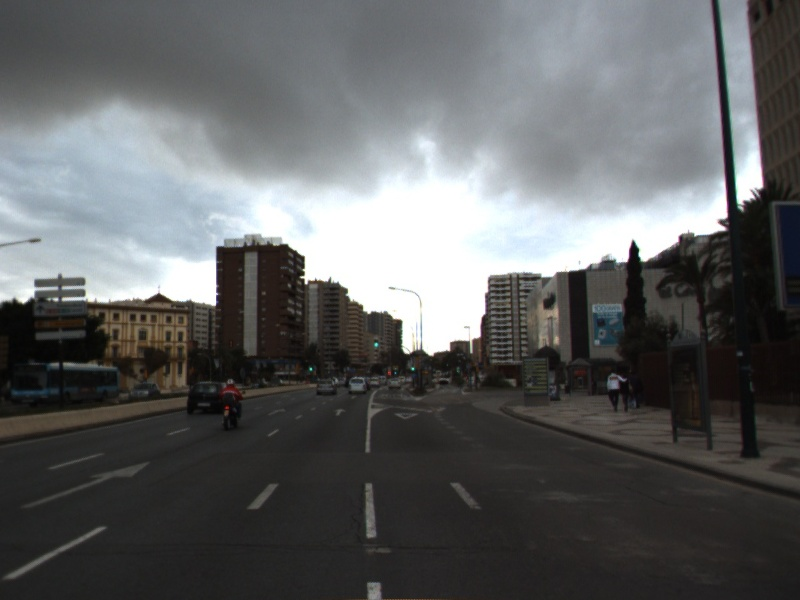STRAIGHT: (17, 457, 155, 512), (265, 406, 288, 417), (331, 407, 348, 418)
